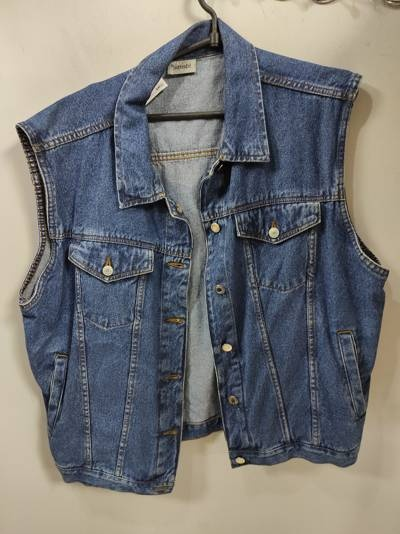Blazer: (18, 15, 377, 493)
